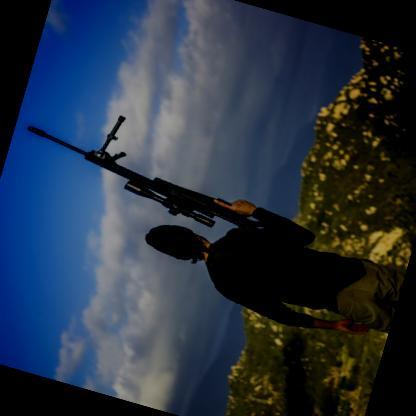rifle: (2, 95, 282, 246)
